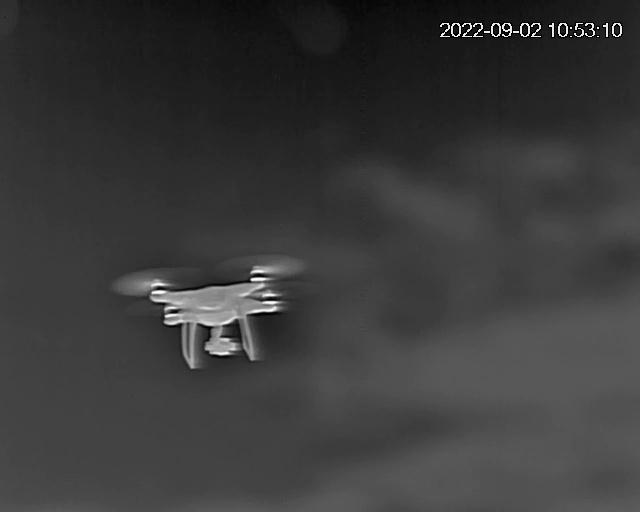DJI-Phantom: (114, 261, 307, 368)
